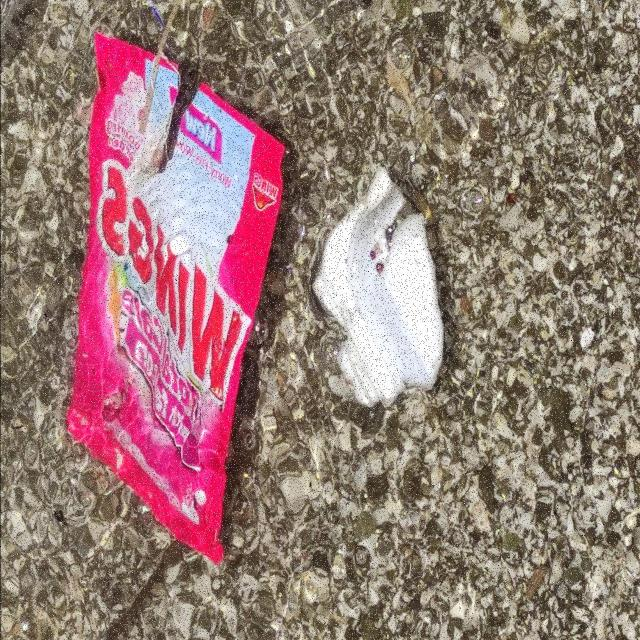plastic_waste: (65, 34, 286, 563)
styrofoam_waste: (313, 170, 447, 412)
